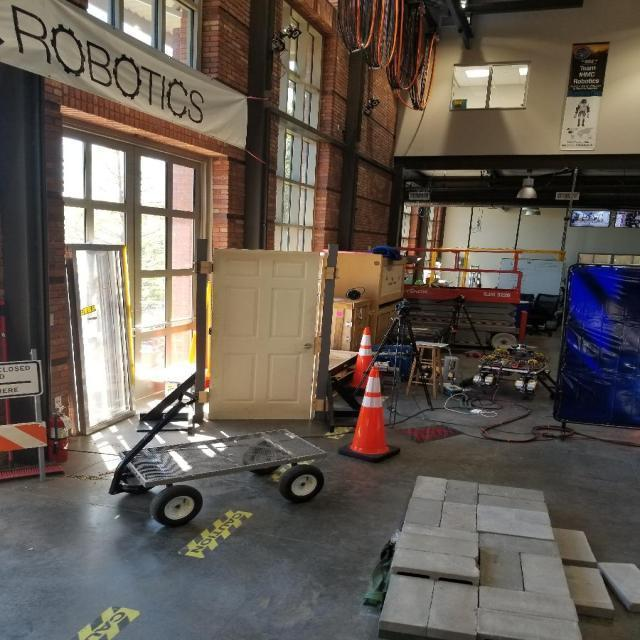door: (208, 246, 320, 422), (295, 340, 314, 348)
